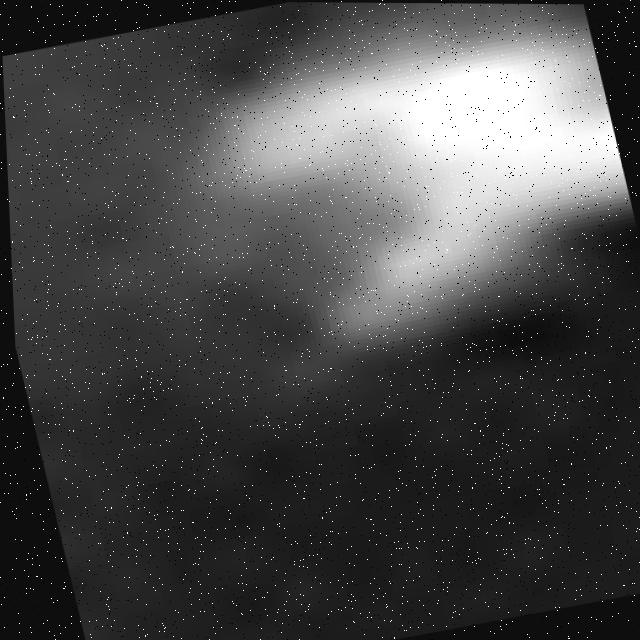person: (135, 2, 640, 397)
